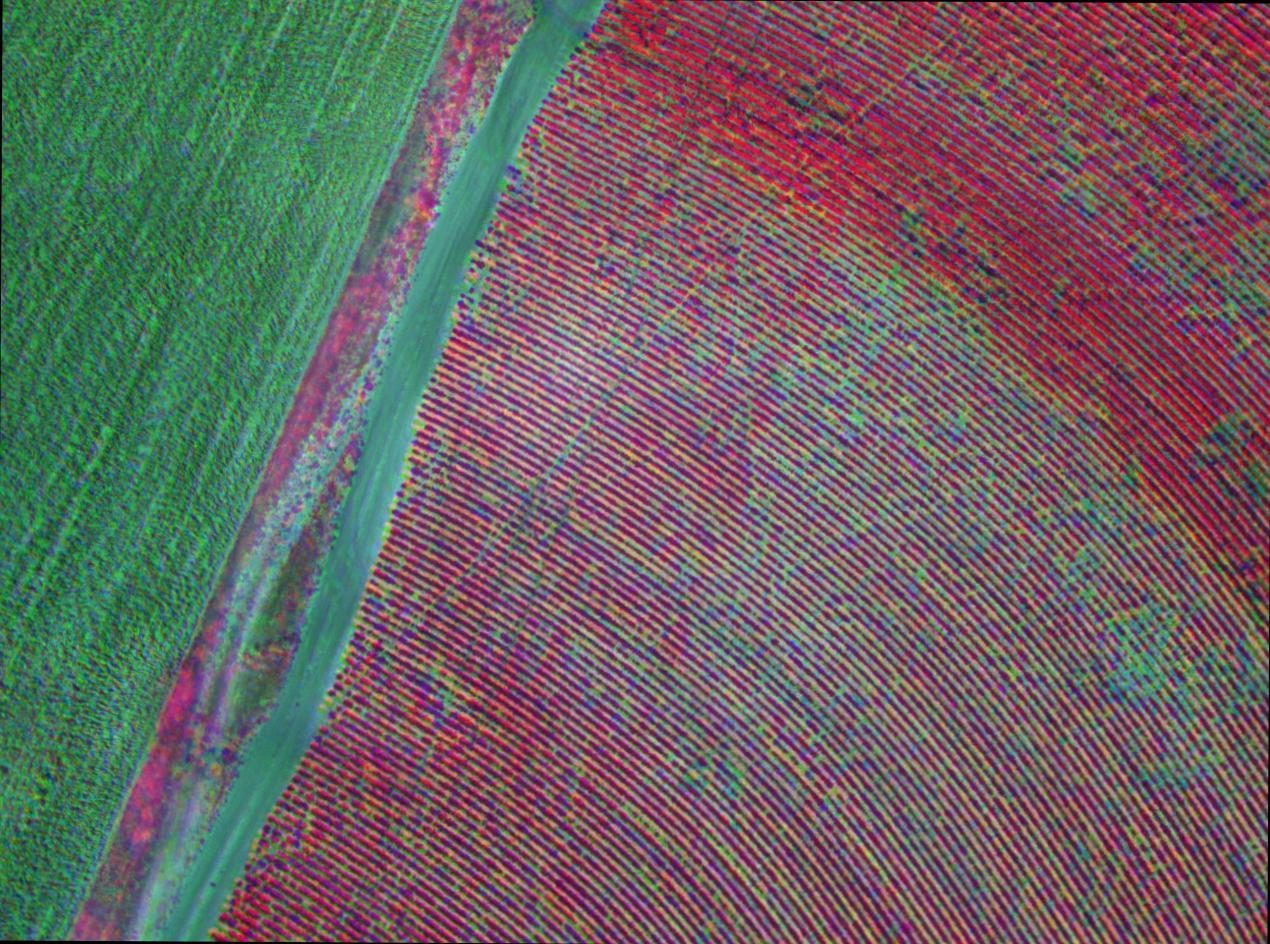dc: (853, 416, 859, 421), (759, 542, 764, 547), (573, 925, 577, 930), (682, 565, 686, 569), (652, 885, 656, 889), (302, 904, 306, 908), (750, 491, 753, 495), (592, 690, 596, 693), (626, 637, 629, 640)
